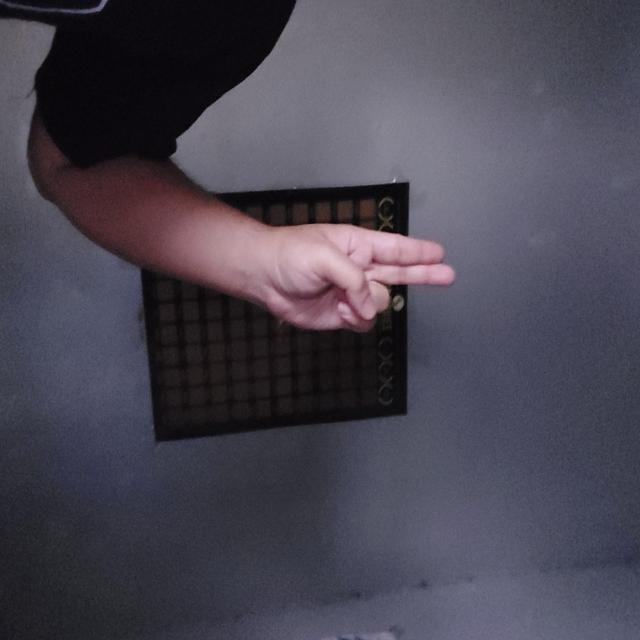U: (218, 184, 334, 383)
